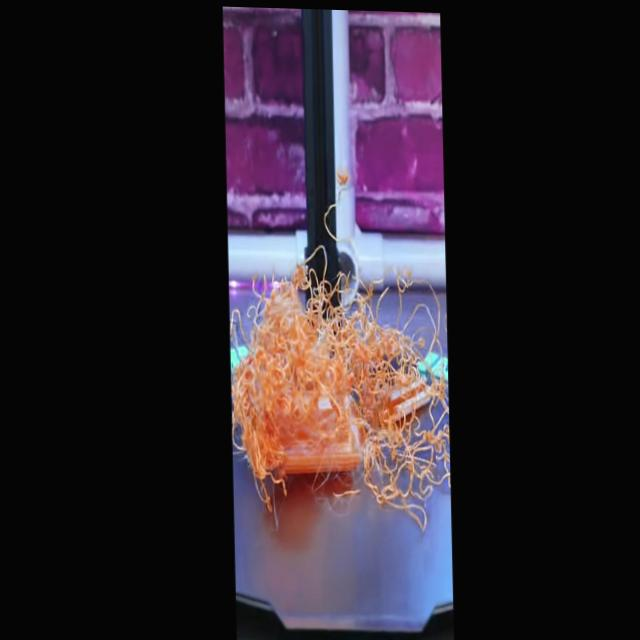spaghetti: (221, 225, 454, 514)
